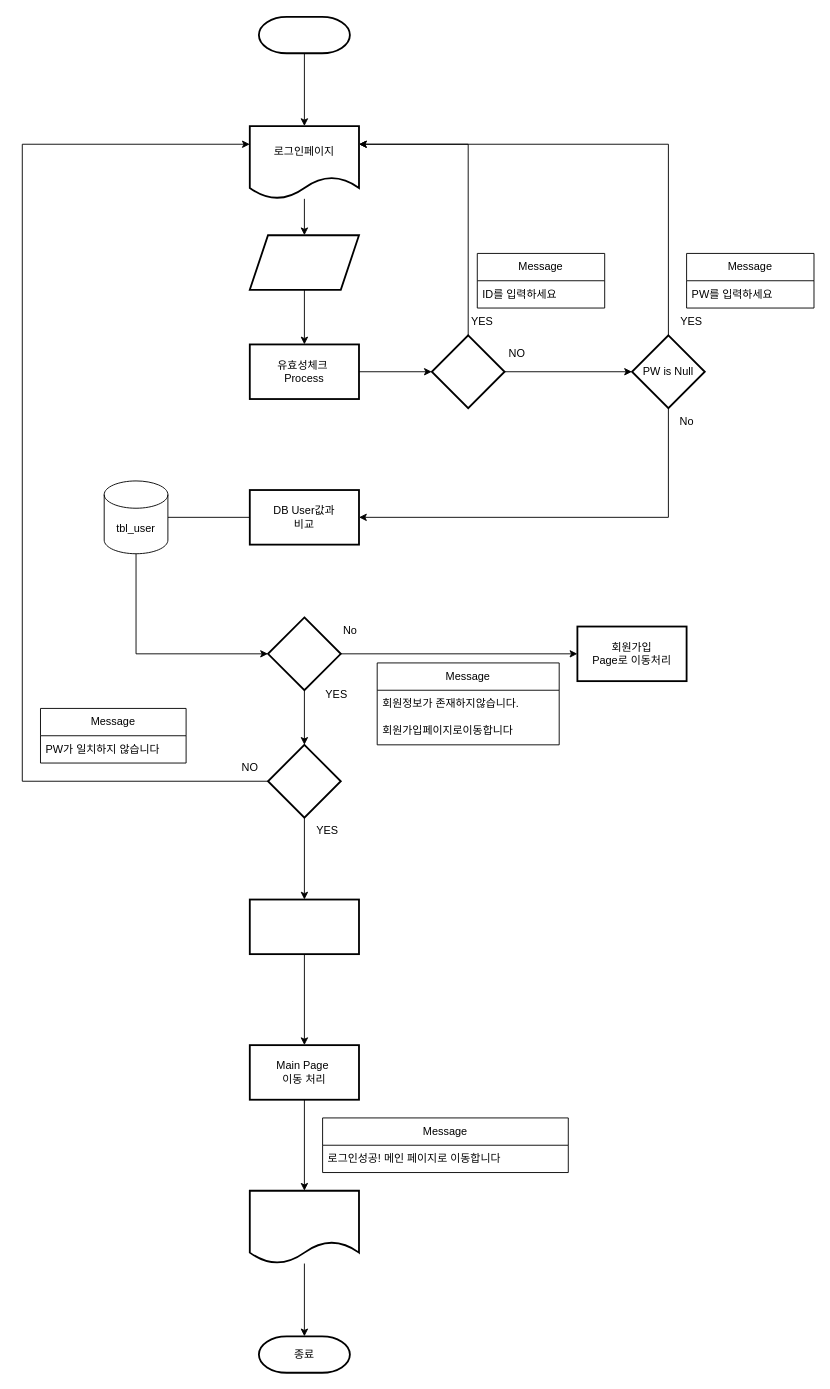
Some shapes in this 830 by 1389 pixel diagram are drawn without their labels. The shapes that lost their labels are listed below. From the top down, each one's box as (x1, y1, x2, y2) in pixels, then its label:
(258, 15, 350, 54): 시작
(248, 234, 359, 290): ID/PW 입력
(430, 334, 505, 409): ID is NULL
(267, 616, 341, 691): 동일계정 존재유무
(267, 743, 341, 818): PW일치 여부
(248, 898, 359, 955): Session객체값넣기 userid/role
(248, 1189, 359, 1264): 메인 페이지 (세션 정보확인)
